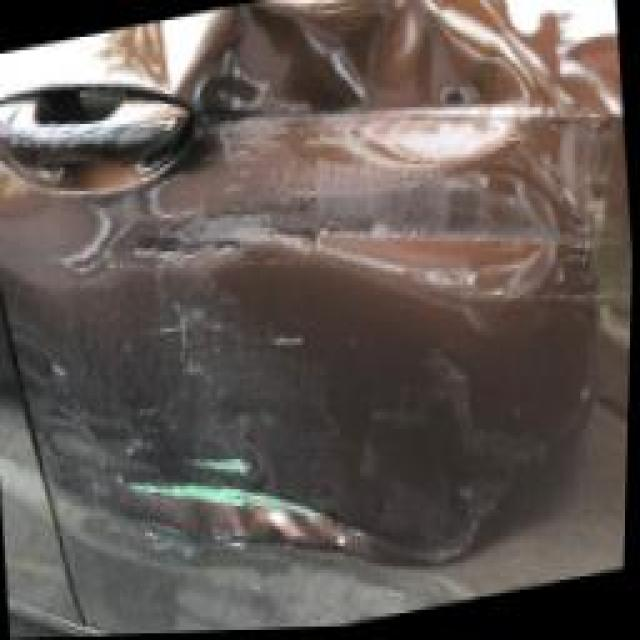Door: (0, 0, 620, 615)
